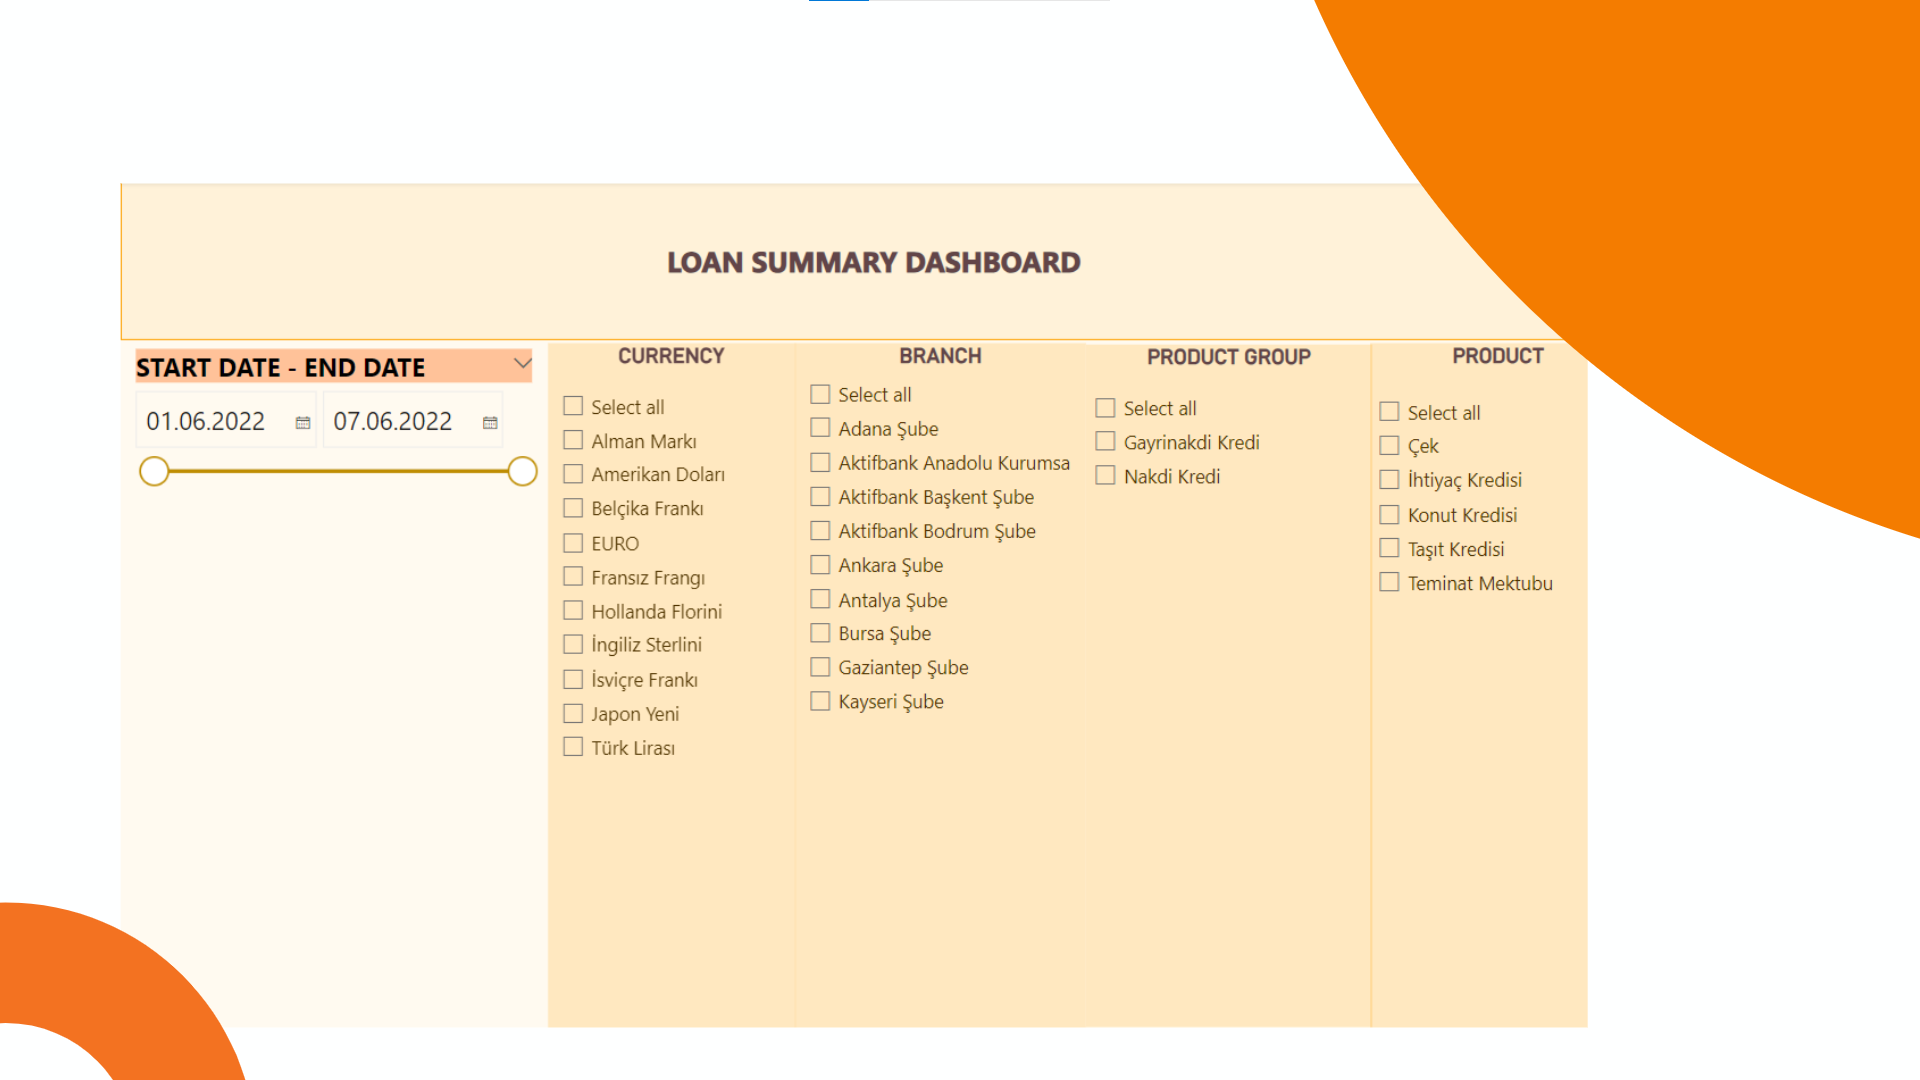

The page's visual inventory and layout, read from the dashboard file:
{"tool":"powerbi","page":{"name":"Prompt Page","canvas":[1280,720],"ordinal":1},"visuals":[{"type":"shape","box":[0,0,1280,135],"z":0},{"type":"slicer","fields":{"Values":["FACT_IDV_LOAN.AS_OF_DATE"]},"box":[0,137.1,362.6,183.3],"z":0,"group":"g1"},{"type":"group","id":"g1","title":"Group 2","box":[0,137.1,1280,582.9],"z":1000},{"type":"slicer","title":"BRANCH","fields":{"Values":["DIM_BRANCH.BRANCH_NAME"]},"box":[572.7,137.1,247.3,582.1],"z":1000,"group":"g1"},{"type":"slicer","title":"CURRENCY","fields":{"Values":["DIM_CURRENCY.CURRENCY_NAME"]},"box":[362.6,137.1,210.1,582.1],"z":2000,"group":"g1"},{"type":"slicer","title":"PRODUCT GROUP","fields":{"Values":["DIM_PD.SUPERIOR_PD_NM"]},"box":[820,137.8,242.9,580.2],"z":3000,"group":"g1"},{"type":"slicer","title":"PRODUCT","fields":{"Values":["DIM_PD.PD_NM"]},"box":[1062.2,137.1,217.8,582.1],"z":4000,"group":"g1"}]}

Visuals, with their boxes in screenshot pixels (x1, y1, x2, y2), scaled from the page's 1280x720 canvas onto the 1920x1080 screenshot:
shape: BBox(0, 0, 1919, 202)
slicer - FACT_IDV_LOAN.AS_OF_DATE: BBox(0, 206, 544, 481)
"Group 2" group: BBox(0, 206, 1919, 1079)
"BRANCH" slicer: BBox(859, 206, 1230, 1079)
"CURRENCY" slicer: BBox(544, 206, 859, 1079)
"PRODUCT GROUP" slicer: BBox(1230, 207, 1594, 1077)
"PRODUCT" slicer: BBox(1593, 206, 1919, 1079)
